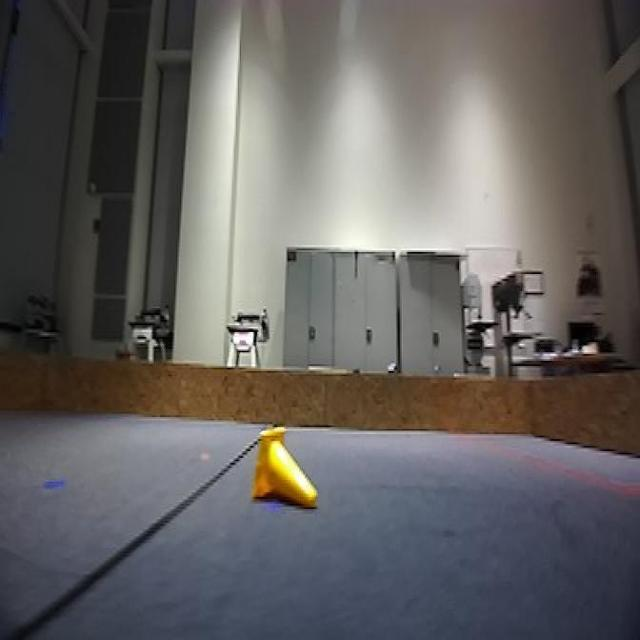frc_cone: (247, 427, 317, 516)
